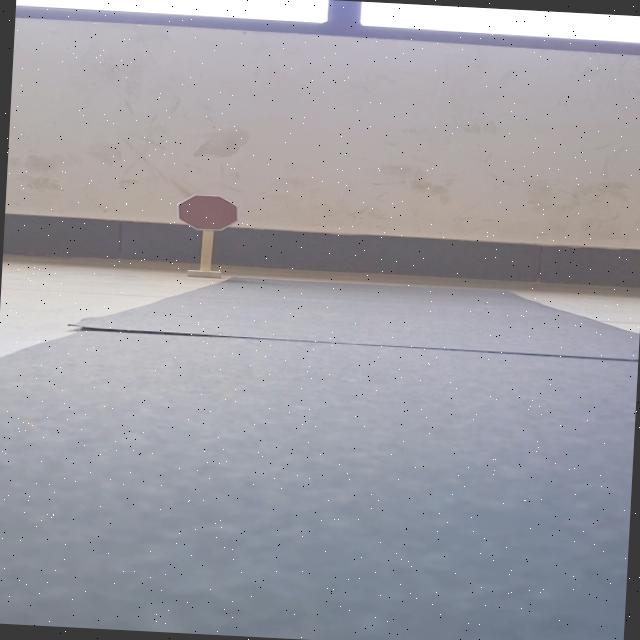Stop: (176, 193, 240, 232)
